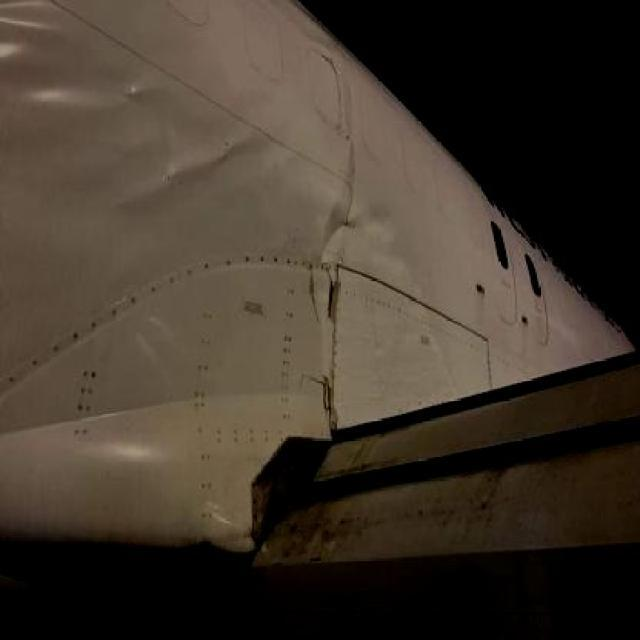dent: (137, 83, 258, 194), (321, 193, 395, 246), (3, 8, 71, 57), (89, 420, 174, 457), (26, 73, 114, 104)
